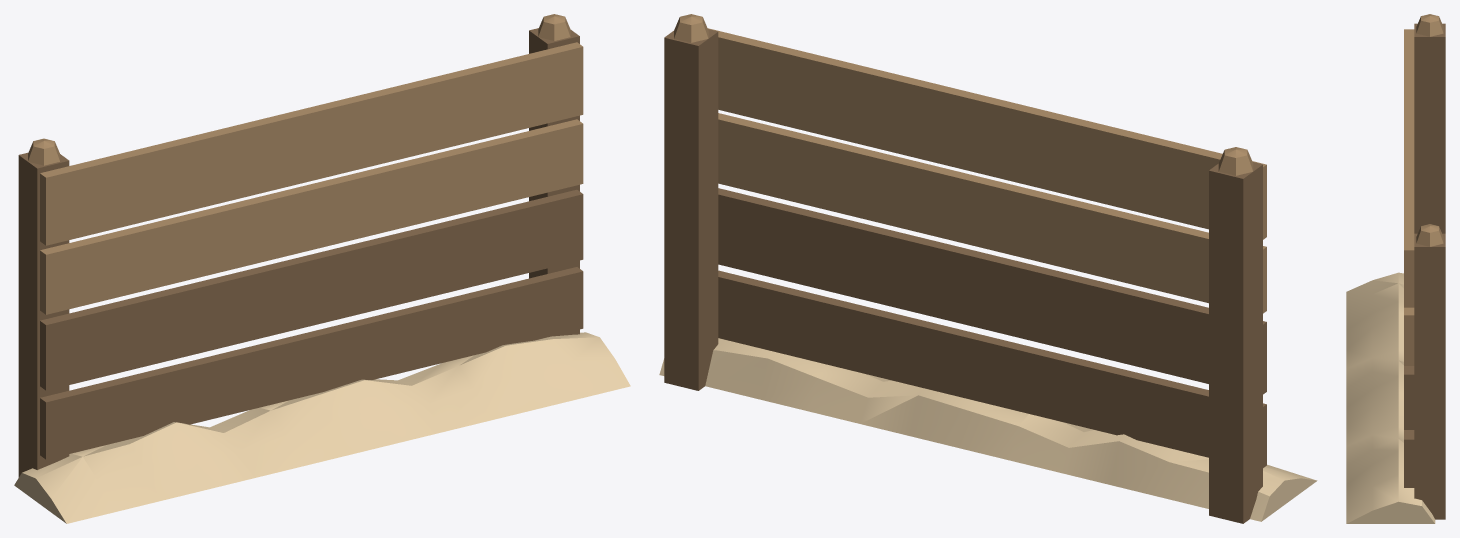
The model's file is barrier.glb.
The picture shows the model from 3 angles, left to right: view 1: azimuth 30°, elevation 25°; view 2: azimuth 150°, elevation 25°; view 3: azimuth 270°, elevation 25°; orthographic projection. The views are drawn at different scales.
Parts seen in each view (by area): view 1: OUT; view 2: OUT; view 3: OUT.
Boxes of the visible parts, <box> form: OUT: <box>14,14,630,523</box>; OUT: <box>659,14,1317,523</box>; OUT: <box>1346,14,1445,523</box>.
Bounding box in the file's own units: 2.1 × 1.21 × 0.38.
